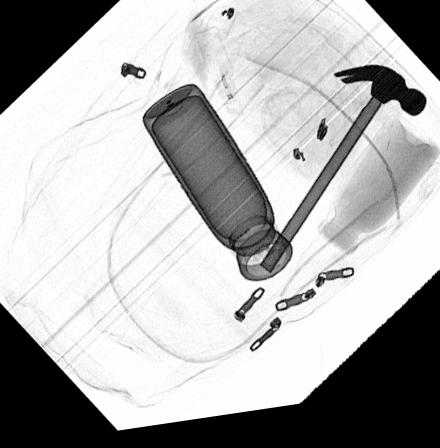Hammer: (259, 75, 428, 281)
